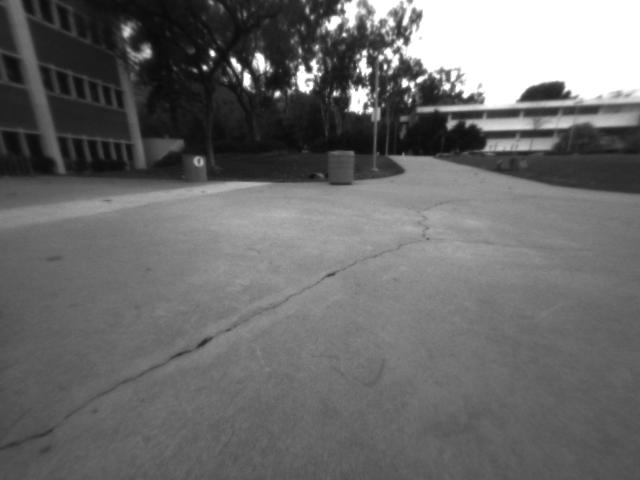trashcan: (327, 146, 353, 190), (181, 151, 211, 186)
